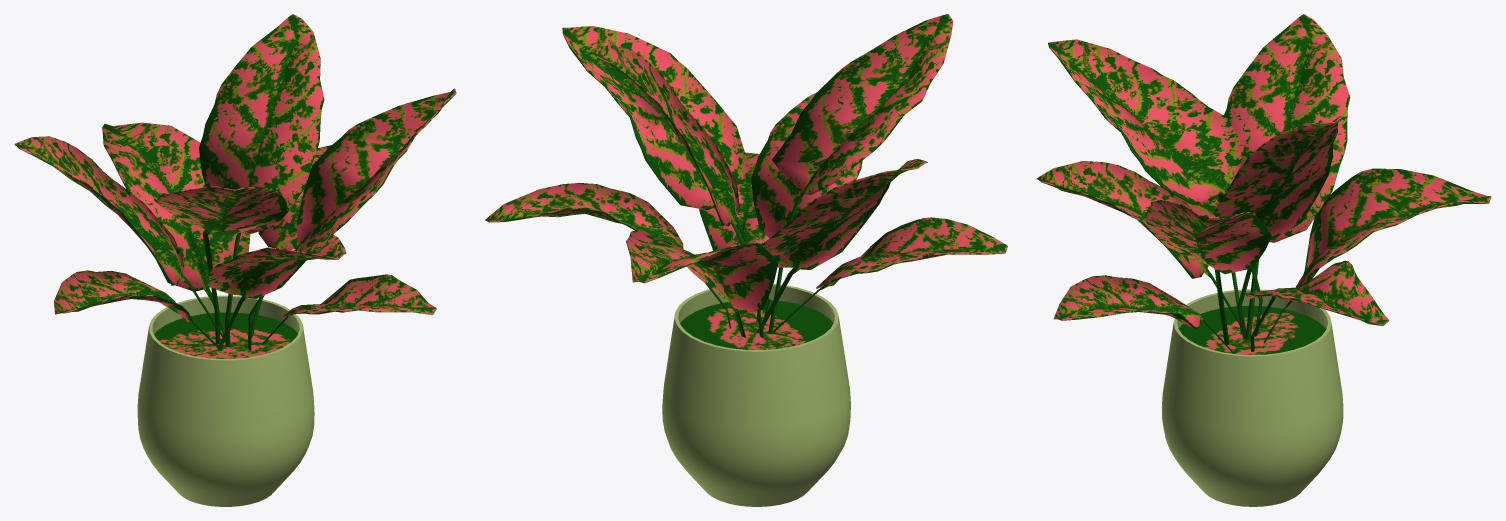
Rendered from aglaonema_plant.glb.
The picture shows the model from 3 angles, left to right: view 1: azimuth 30°, elevation 25°; view 2: azimuth 150°, elevation 25°; view 3: azimuth 270°, elevation 25°; orthographic projection. The views are drawn at different scales.
Parts seen in each view (by area): view 1: aglaonema leaf.002; view 2: aglaonema leaf.002; view 3: aglaonema leaf.002.
Boxes of the visible parts, bbox=[...] form: aglaonema leaf.002: bbox=[14, 14, 456, 506]; aglaonema leaf.002: bbox=[485, 14, 1007, 506]; aglaonema leaf.002: bbox=[1036, 14, 1491, 506].
Size of the model in its own units: 0.243 by 0.2343 by 0.2279.
4 materials, 3 textured.
